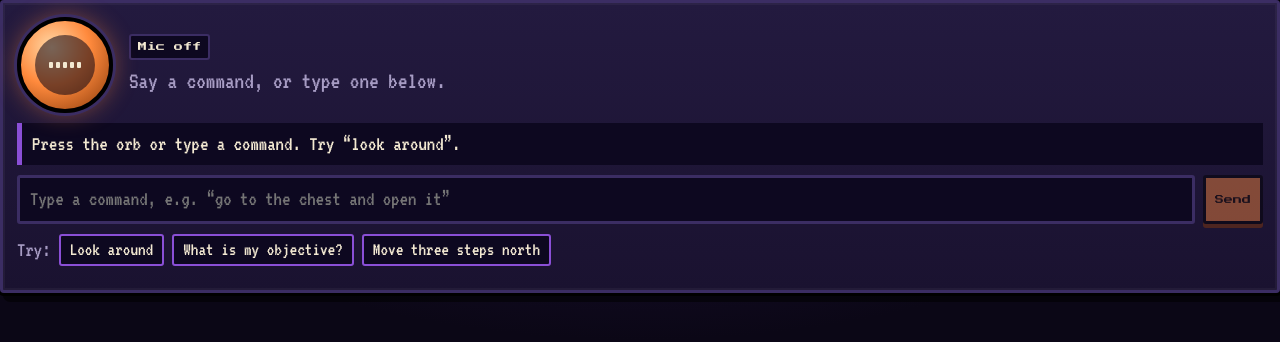
VoiceConsole › shows clarification styling for unclear commands
Type "dance wildly" into the field labelled "Type a command". click: (606, 199)
box: 17,175 -> 1195,224
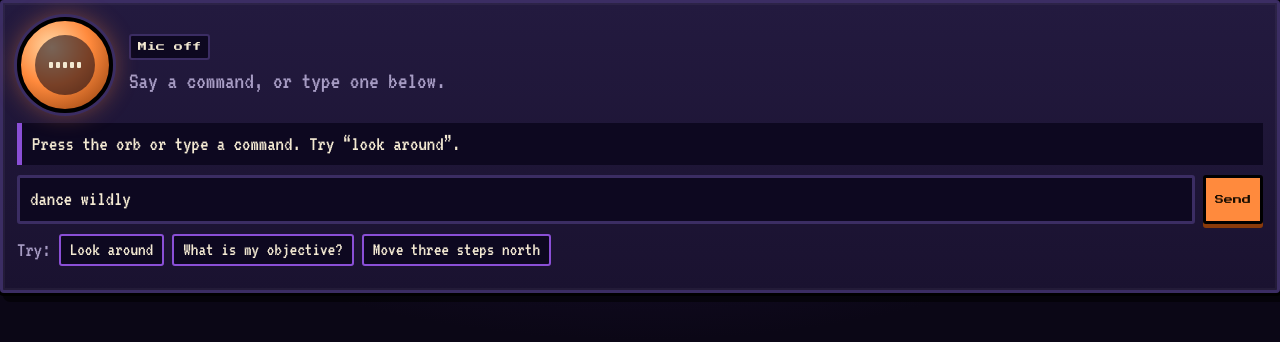
Click the button "Send". click: (1233, 199)
box: 1203,175 -> 1263,224
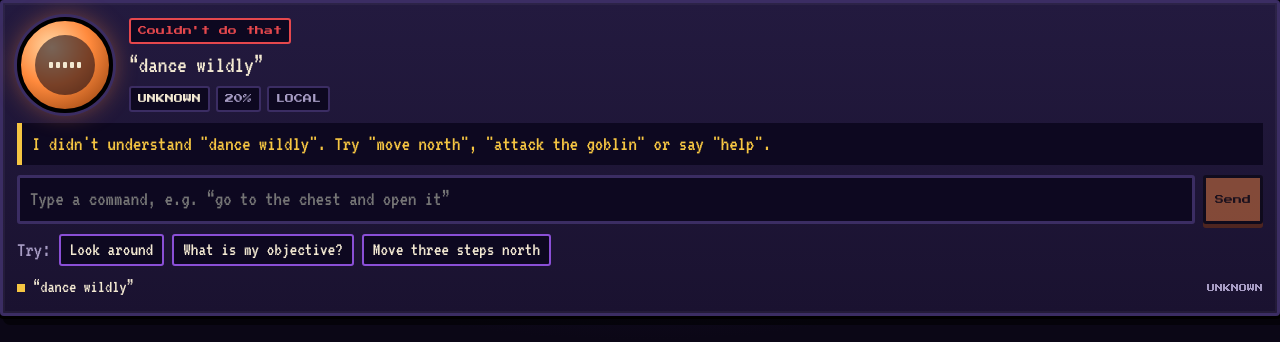
Check: the text with test id "phase" reads "Couldn't do that", box 138,26 -> 282,35
